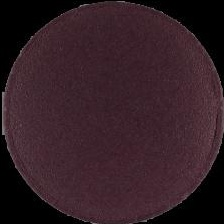0185-0415: (0, 0, 224, 224)
